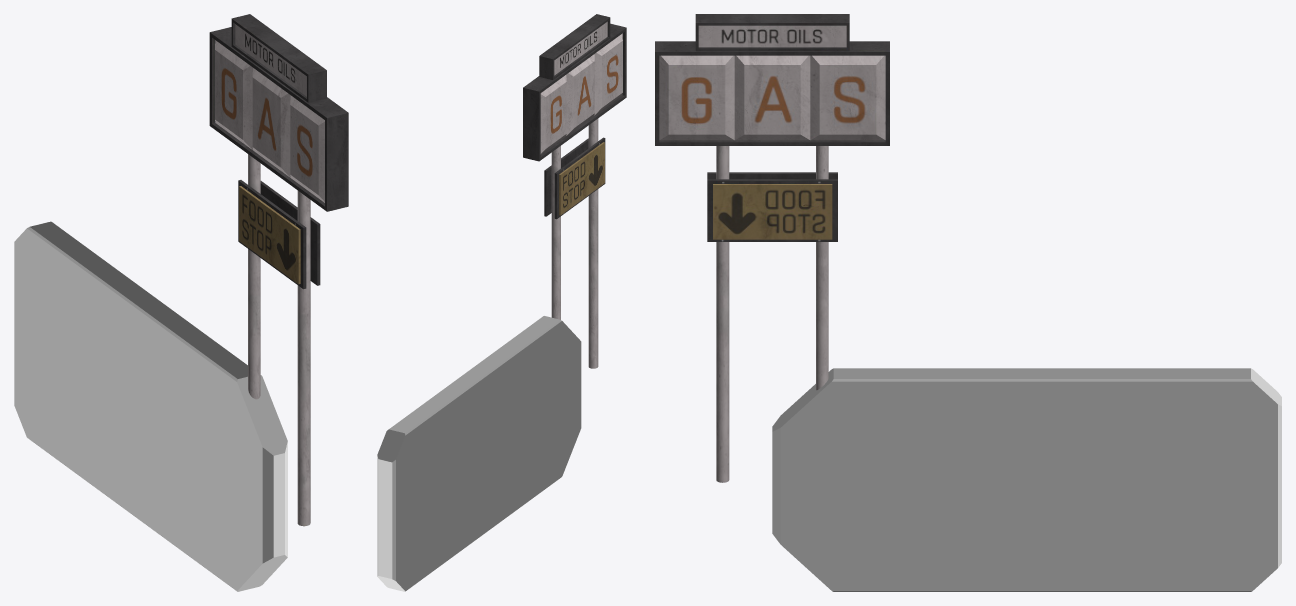
Rendered from SM_Billboard_19.fbx.
3 views of the same model, side by side, from view 1: azimuth 30°, elevation 25°; view 2: azimuth 150°, elevation 25°; view 3: azimuth 270°, elevation 25° (orthographic). The views are drawn at different scales.
Parts seen in each view (by area): view 1: SM_Billboard_19_ConvexHulls, SM_Billboard_19_LOD0; view 2: SM_Billboard_19_ConvexHulls, SM_Billboard_19_LOD0; view 3: SM_Billboard_19_ConvexHulls, SM_Billboard_19_LOD0.
Boxes of the visible parts, left/top/right/bottom form: SM_Billboard_19_ConvexHulls: left=14, top=221, right=287, bottom=591; SM_Billboard_19_LOD0: left=209, top=14, right=348, bottom=526; SM_Billboard_19_ConvexHulls: left=377, top=316, right=581, bottom=591; SM_Billboard_19_LOD0: left=523, top=14, right=626, bottom=368; SM_Billboard_19_ConvexHulls: left=772, top=368, right=1281, bottom=591; SM_Billboard_19_LOD0: left=655, top=14, right=889, bottom=482.
Size of the model in its own units: 43.62 by 938 by 938.
